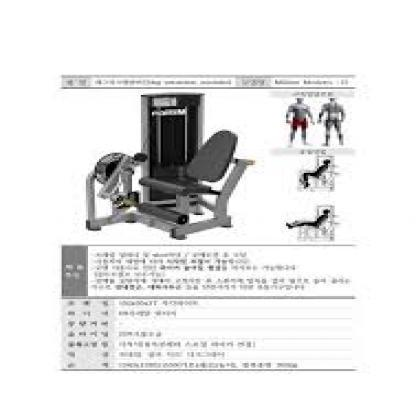leg extension: (68, 89, 265, 246)
